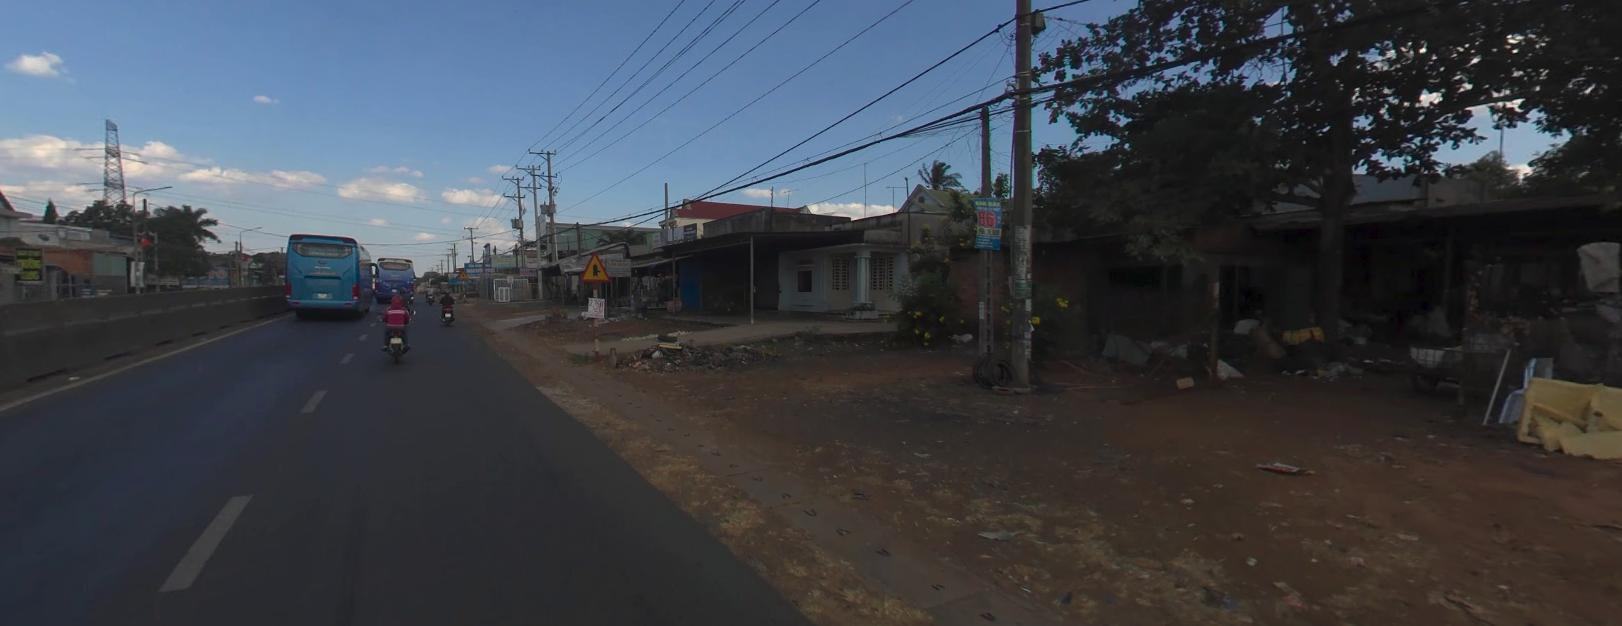Nguy hiem: (579, 249, 611, 282), (456, 269, 469, 278)
